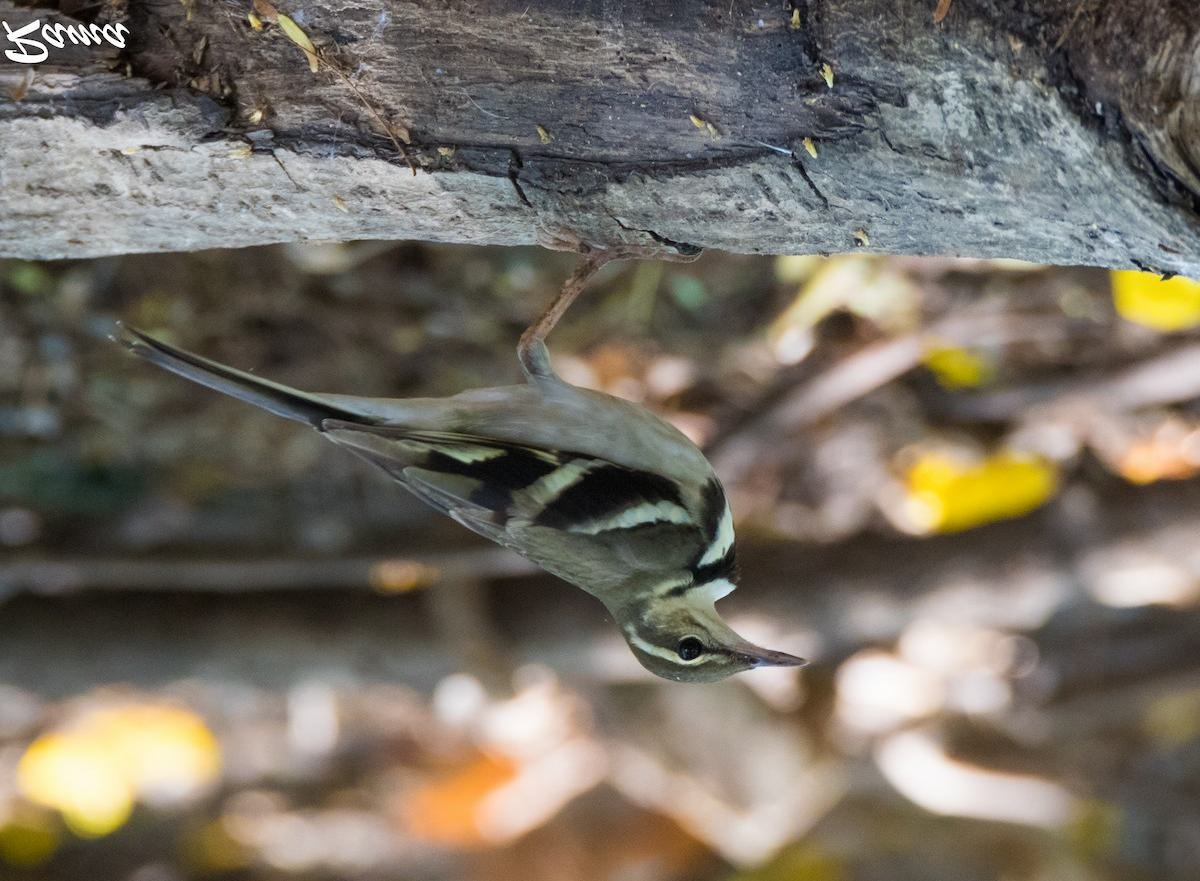wagtail: (303, 257, 790, 693)
